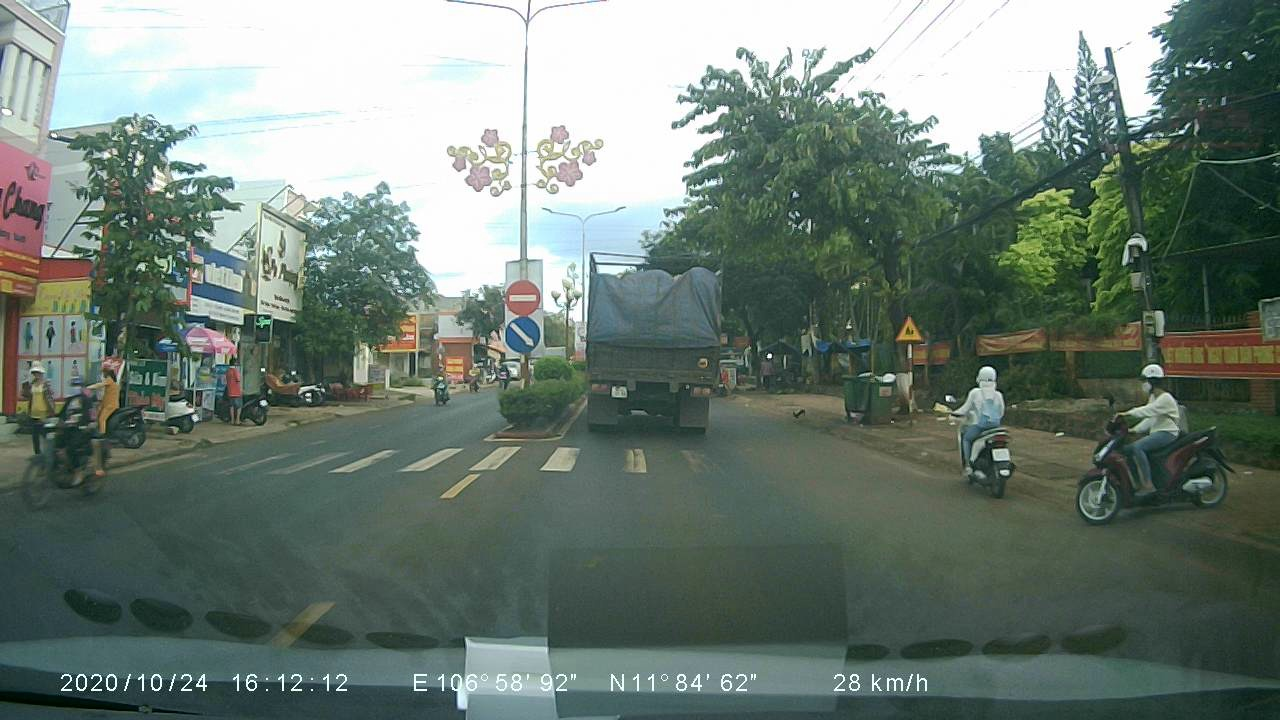Bien khac: (893, 315, 926, 342)
Cam di nguoc chieu: (504, 277, 545, 316)
Huong di phai re phai: (503, 315, 542, 353)
